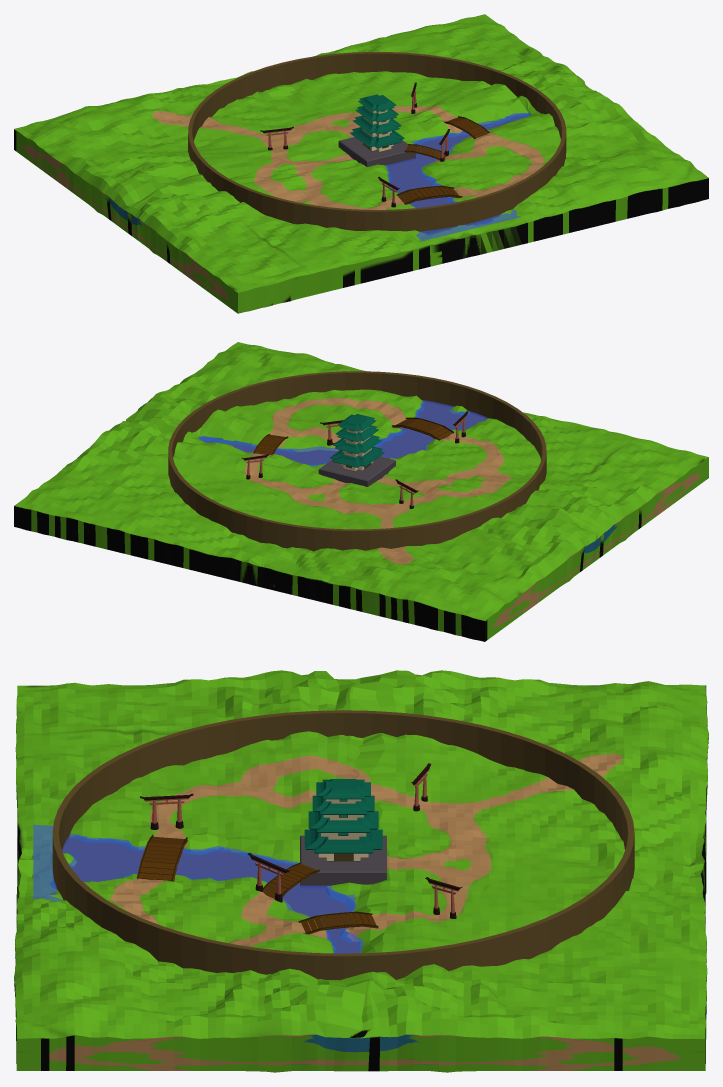
Rendered from fullmap.fbx.
3 views of the same model, one above another, from view 1: azimuth 30°, elevation 25°; view 2: azimuth 150°, elevation 25°; view 3: azimuth 270°, elevation 25° (orthographic). The views are drawn at different scales.
Visible parts, largest first — view 1: ground, wall, waterlevel, templebase, Cube.012, Cube.003, Cube.002, Cube.009, Cube.004; view 2: ground, wall, waterlevel, templebase, Cube.012, Cube.003, Cube.002, Cube.004; view 3: ground, wall, waterlevel, templebase, Cube.003, Cube.012, Cube.002, Cube.004, Cube.009, Cube.001, Cube.010, Cylinder.003.
Part boxes in pixels (box(x1,y1,x2,y2)): ground: box(14, 14, 708, 313); wall: box(188, 52, 566, 233); waterlevel: box(385, 113, 531, 240); templebase: box(338, 137, 415, 166); Cube.012: box(396, 185, 462, 204); Cube.003: box(349, 127, 404, 152); Cube.002: box(353, 116, 401, 137); Cube.009: box(443, 116, 489, 138); Cube.004: box(358, 94, 395, 113); ground: box(14, 342, 708, 641); wall: box(168, 371, 546, 551); waterlevel: box(198, 400, 488, 466); templebase: box(318, 456, 395, 486); Cube.012: box(391, 417, 453, 440); Cube.003: box(330, 446, 384, 471); Cube.002: box(333, 435, 381, 457); Cube.004: box(338, 414, 376, 433); ground: box(14, 670, 708, 1072); wall: box(52, 710, 634, 979); waterlevel: box(33, 825, 363, 953); templebase: box(300, 835, 386, 887); Cube.003: box(304, 829, 382, 861); Cube.012: box(136, 834, 187, 881); Cube.002: box(308, 811, 378, 839); Cube.004: box(316, 779, 370, 803); Cube.009: box(298, 911, 378, 934); Cube.001: box(312, 795, 374, 820); Cube.010: box(263, 862, 319, 898); Cylinder.003: box(140, 793, 193, 829).
Size of the model in its own units: 8379 by 1617 by 6891.
46 materials, 1 textured.
